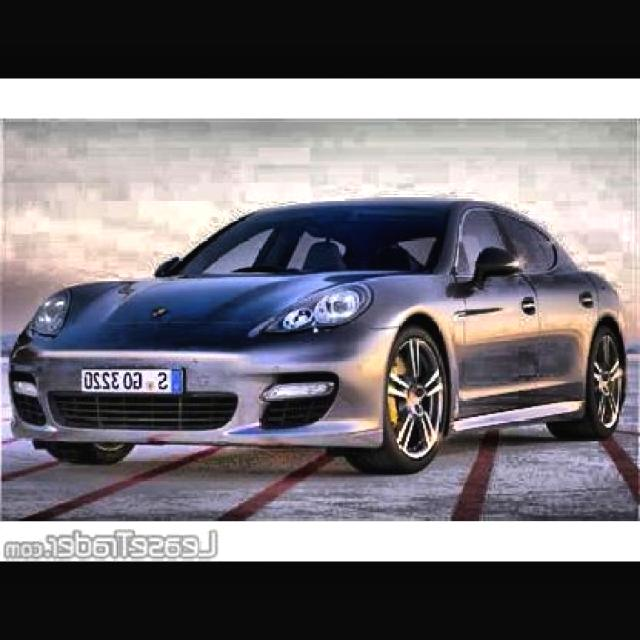black: (0, 194, 619, 452)
